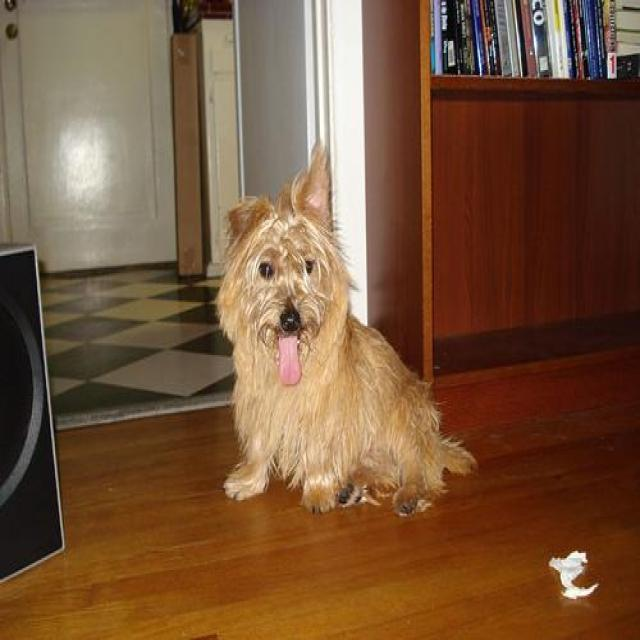adult_dog: (215, 138, 479, 519)
